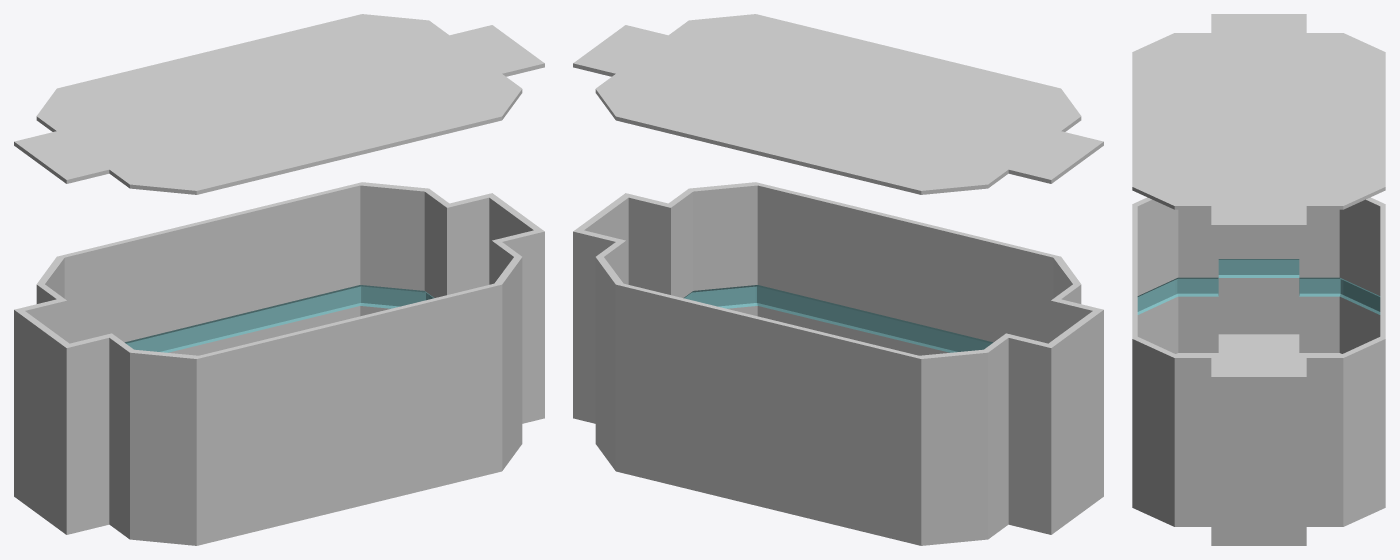
The model's file is Room_01.fbx.
3 views of the same model, side by side, from view 1: azimuth 30°, elevation 25°; view 2: azimuth 150°, elevation 25°; view 3: azimuth 270°, elevation 25° (orthographic). The views are drawn at different scales.
Parts seen in each view (by area): view 1: pCube1, pCube2; view 2: pCube1, pCube2; view 3: pCube1, pCube2.
Part boxes in pixels (x1,y1,x2,y2): pCube1: (14, 182, 544, 545); pCube2: (14, 14, 544, 194); pCube1: (573, 182, 1103, 545); pCube2: (573, 14, 1103, 194); pCube1: (1132, 197, 1385, 545); pCube2: (1132, 14, 1385, 228).
Size of the model in its own units: 124 by 87.67 by 62.64.
